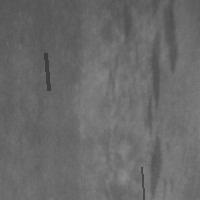inclusion: (144, 1, 182, 180), (145, 133, 171, 199), (115, 2, 139, 53), (43, 51, 50, 92), (139, 165, 146, 200)
